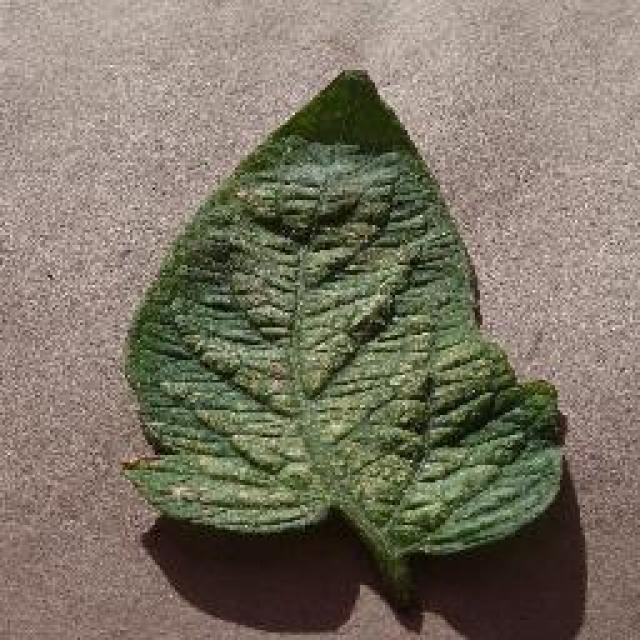Tomato spider mites leaf: (132, 64, 566, 558)
